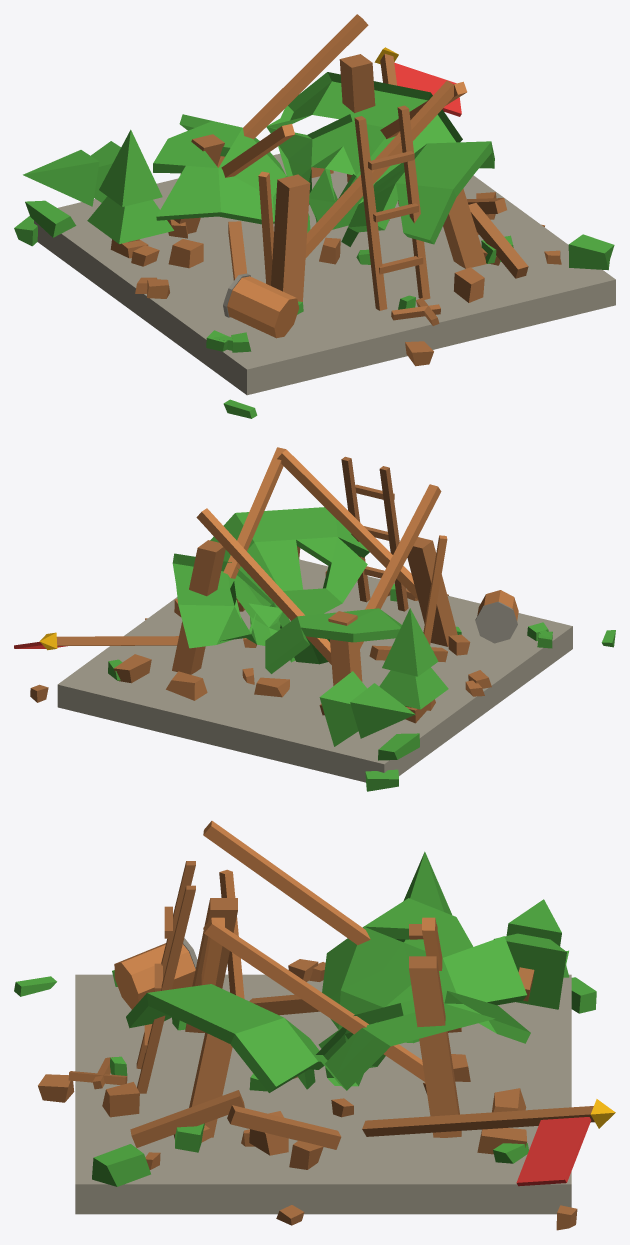
File: defense_tower_t1_v3_dmg2.glb
3 renders of one model, top to bottom at view 1: azimuth 30°, elevation 25°; view 2: azimuth 150°, elevation 25°; view 3: azimuth 270°, elevation 25°, orthographic. The views are drawn at different scales.
Parts seen in each view (by area): view 1: defense_tower_t1_v3_dmg2; view 2: defense_tower_t1_v3_dmg2; view 3: defense_tower_t1_v3_dmg2.
Boxes of the visible parts, left/top/right/bottom form: defense_tower_t1_v3_dmg2: left=14, top=14, right=615, bottom=418; defense_tower_t1_v3_dmg2: left=14, top=447, right=615, bottom=791; defense_tower_t1_v3_dmg2: left=14, top=821, right=615, bottom=1230.
Bounding box in the file's own units: 0.7399 × 0.3164 × 0.7273.
1 material, 1 textured.
